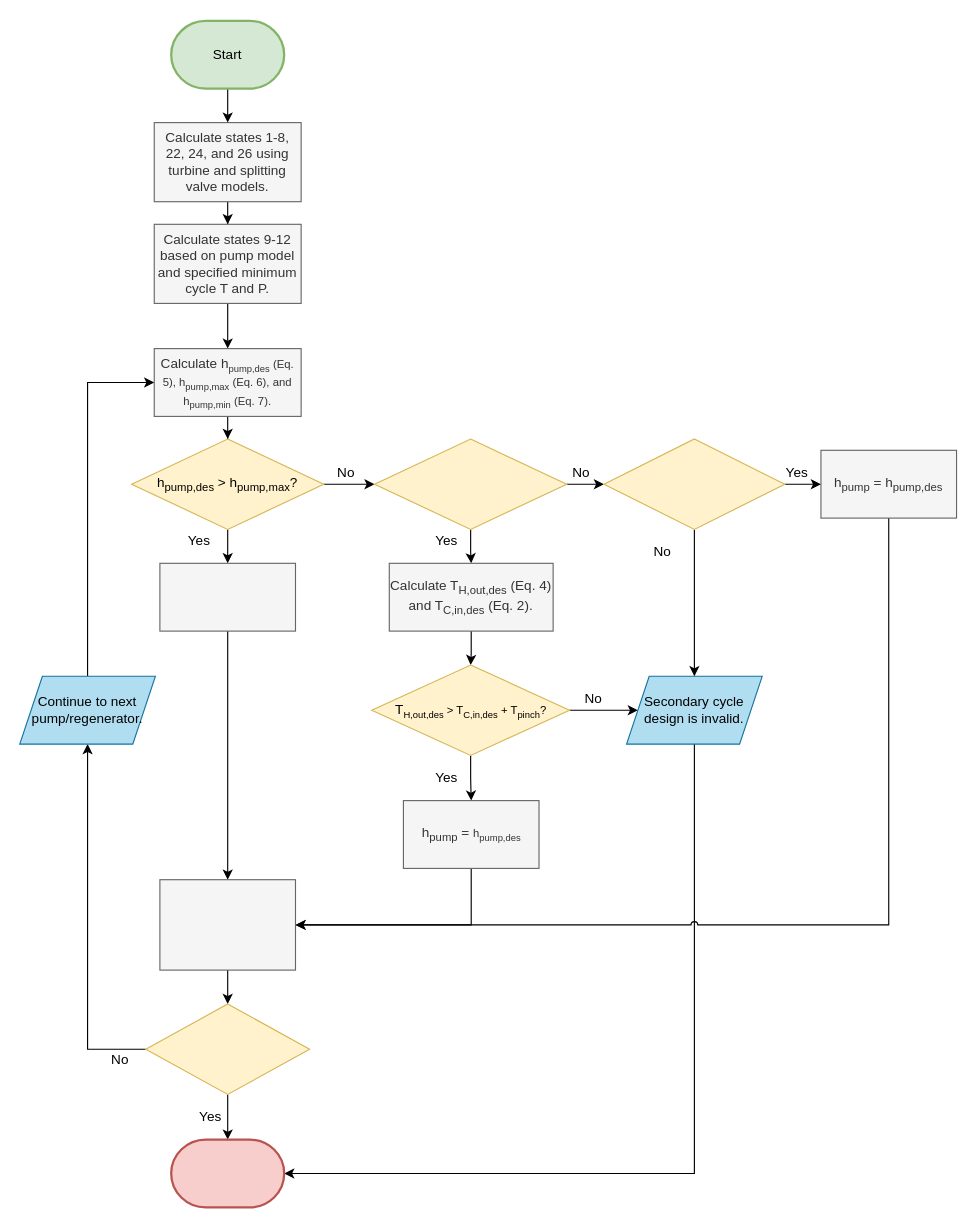
Some shapes in this 976 by 1227 pixel diagram are drawn without their labels. Each missing label, with the centre of its shape:
"Calculate h H,out (Eq. 4), h C,in (Eq. 2), and h C,out (Eq. 3)." belongs at point (227, 924).
"End" belongs at point (227, 1173).
"h pump = h pump,max" belongs at point (227, 596).
"h pump,des > h g ?" belongs at point (470, 483).
"h pump,des >= h pump,min ?" belongs at point (694, 483).
"Is final regenerator?" belongs at point (227, 1048).
